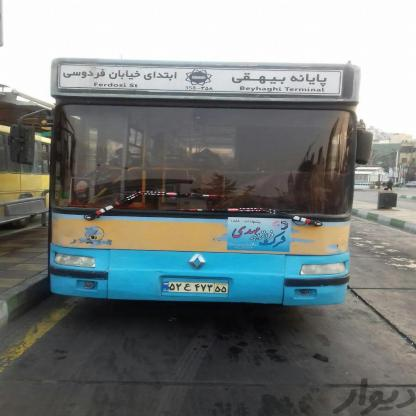Bus: (23, 32, 378, 326)
